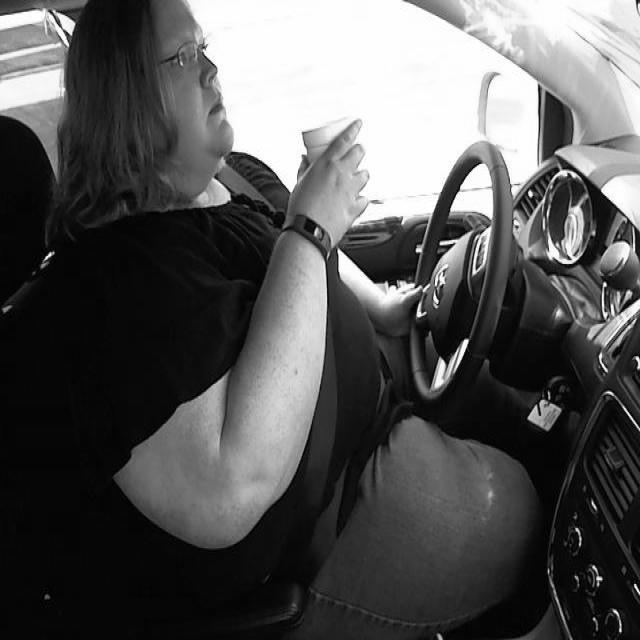Drinking: (303, 116, 359, 193)
